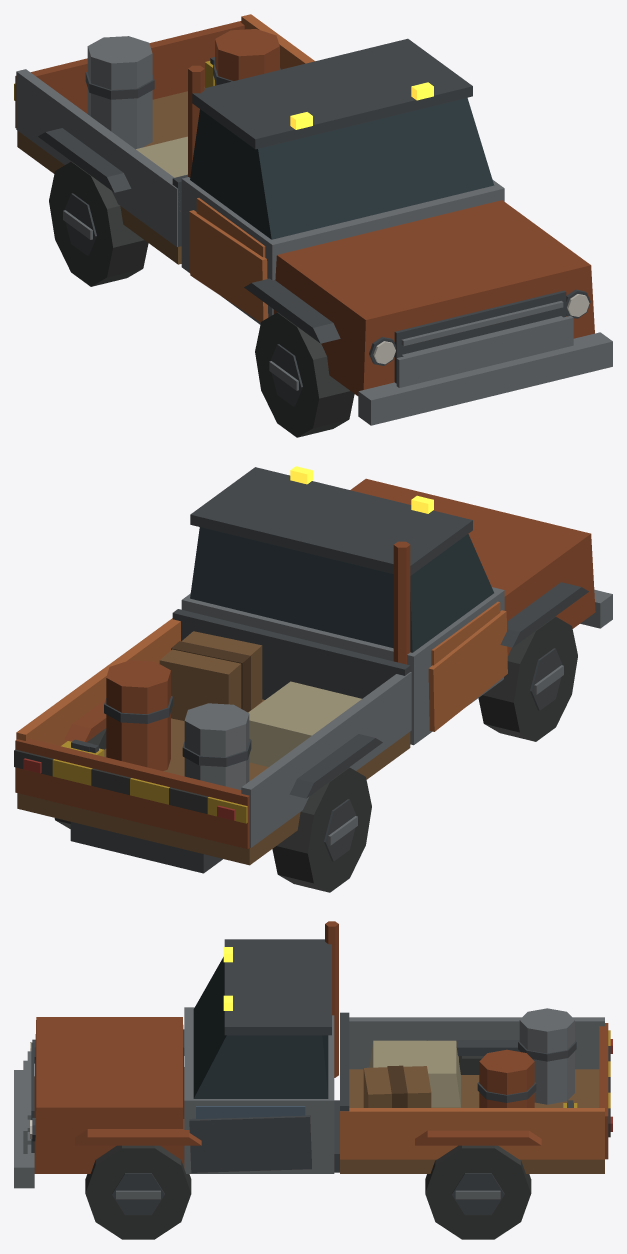
The model's file is vehicle_truck_l2.glb.
3 renders of one model, top to bottom at view 1: azimuth 30°, elevation 25°; view 2: azimuth 150°, elevation 25°; view 3: azimuth 270°, elevation 25°, orthographic. The views are drawn at different scales.
Visible parts, largest first — view 1: body, wheel_fr, wheel_rr; view 2: body, wheel_fr, wheel_rr; view 3: body, wheel_fl, wheel_rl.
Part boxes in pixels (box(x1,y1,x2,y2)): body: box(14, 14, 612, 425); wheel_fr: box(255, 312, 354, 437); wheel_rr: box(49, 161, 148, 286); body: box(14, 466, 612, 873); wheel_fr: box(478, 616, 577, 741); wheel_rr: box(272, 767, 371, 892); body: box(14, 921, 612, 1188); wheel_fl: box(85, 1145, 191, 1239); wheel_rl: box(425, 1145, 531, 1239).
Size of the model in its own units: 2.22 by 2.13 by 5.2.
